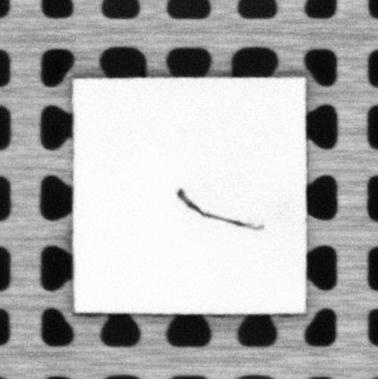DIE_INK: (175, 188, 266, 230)
